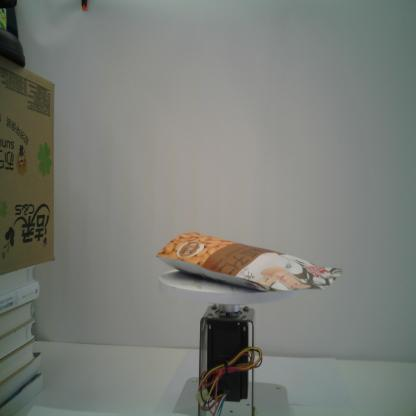Dried Fruit: (156, 232, 344, 292)
